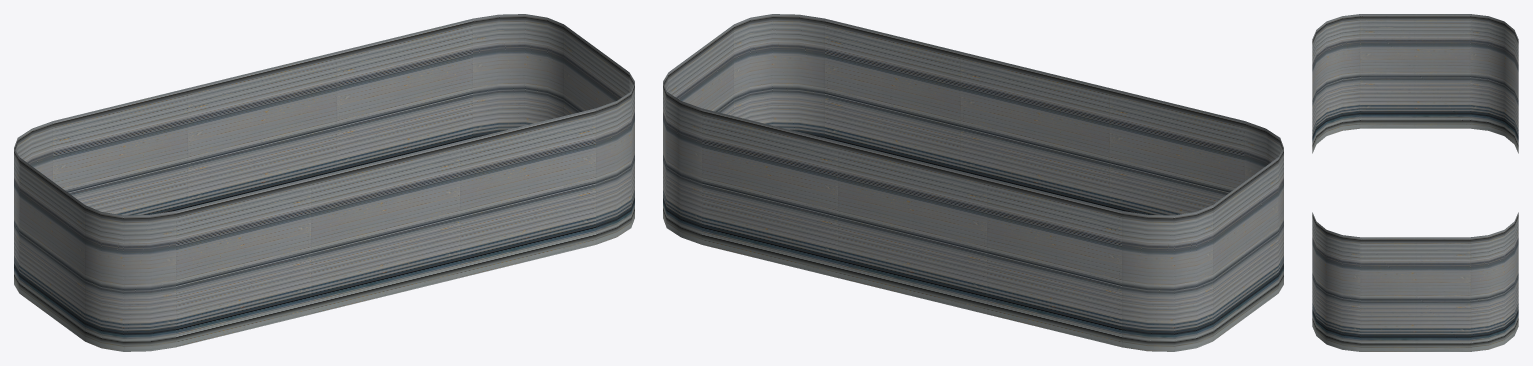
The model's file is rural_diner_2_rural_trailer_stuff_1_0_lev2.glb.
The picture shows the model from 3 angles, left to right: view 1: azimuth 30°, elevation 25°; view 2: azimuth 150°, elevation 25°; view 3: azimuth 270°, elevation 25°; orthographic projection. The views are drawn at different scales.
Parts seen in each view (by area): view 1: rural_diner_2_rural_trailer_stuff_1_0_lev2; view 2: rural_diner_2_rural_trailer_stuff_1_0_lev2; view 3: rural_diner_2_rural_trailer_stuff_1_0_lev2.
Part boxes in pixels (<box>): rural_diner_2_rural_trailer_stuff_1_0_lev2: <box>14,14,634,351</box>; rural_diner_2_rural_trailer_stuff_1_0_lev2: <box>663,14,1283,351</box>; rural_diner_2_rural_trailer_stuff_1_0_lev2: <box>1312,14,1518,351</box>.
Size of the model in its own units: 13.09 by 3.14 by 5.11.
1 material, 1 textured.
